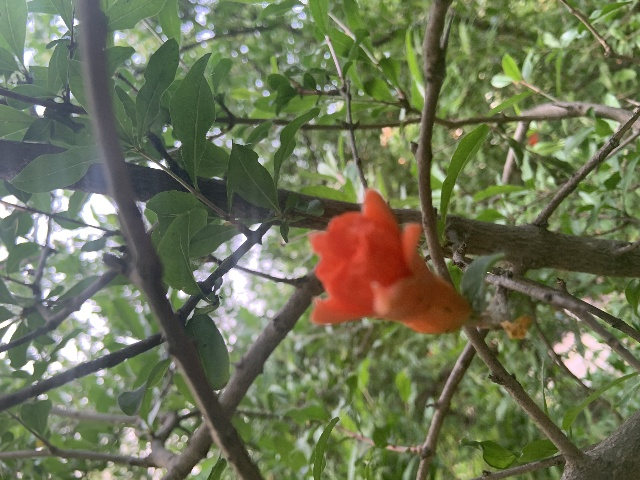flower: (307, 189, 467, 336)
